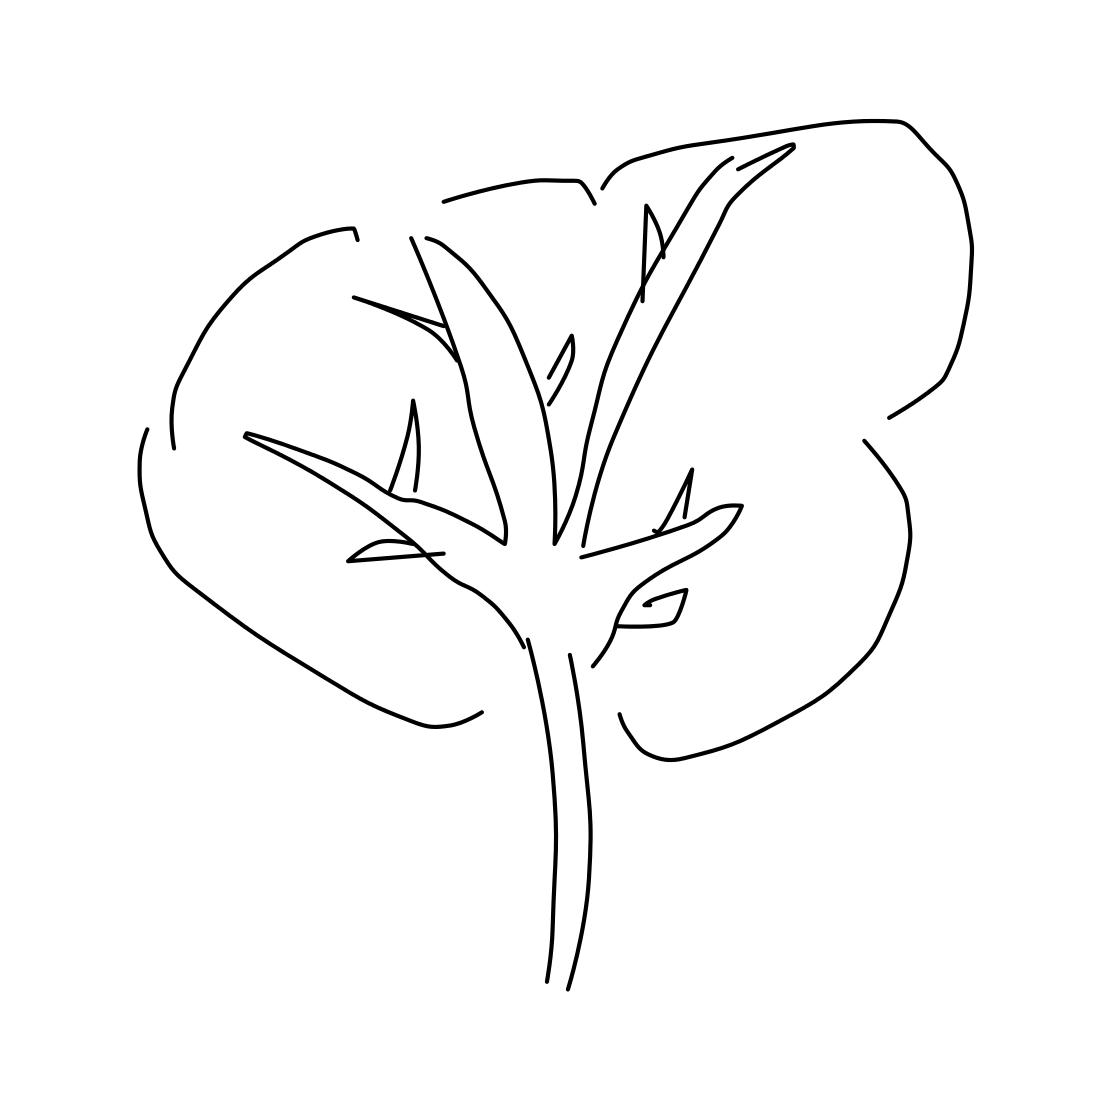Tree: (123, 54, 984, 1002)
